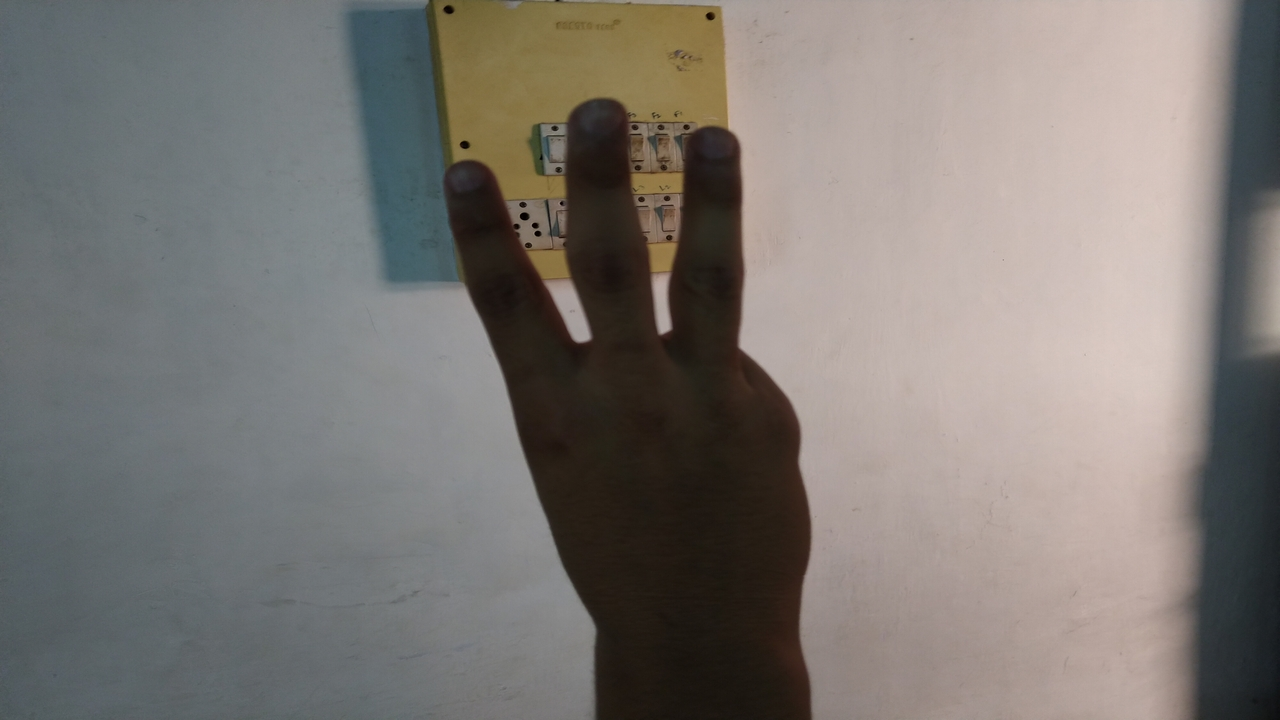fingertip: (550, 94, 637, 158), (682, 122, 744, 182), (442, 154, 498, 206)
